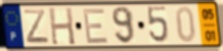0: (174, 5, 198, 44)
5: (146, 5, 170, 45)
9: (111, 6, 136, 46)
E: (81, 7, 110, 45)
H: (48, 7, 78, 47)
Z: (22, 9, 51, 45)
